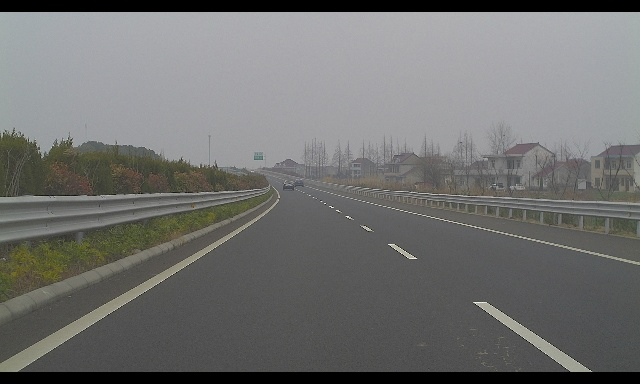car: (486, 184, 505, 192), (282, 180, 295, 190), (508, 184, 525, 191), (294, 179, 304, 187)
